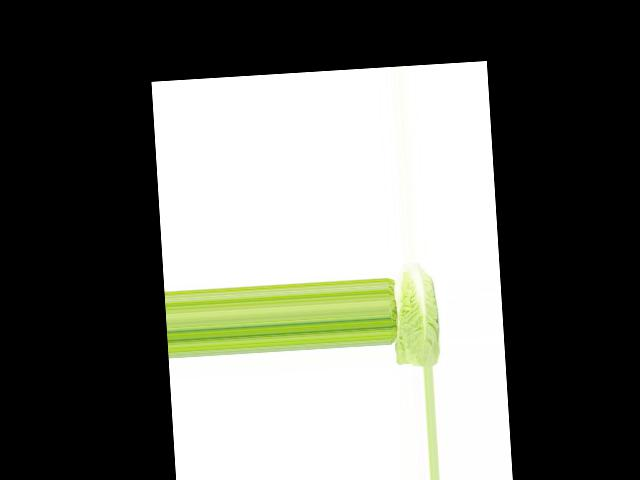lettuce: (391, 260, 448, 369)
